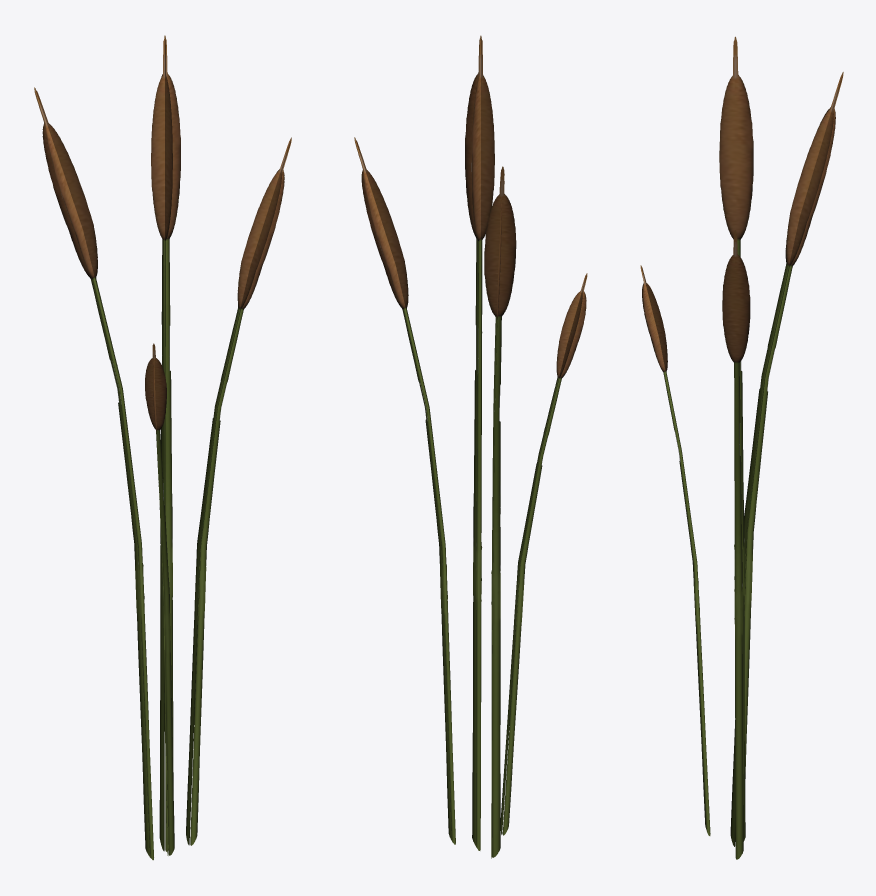
Rendered from FSF_Flower_005.FBX.
3 renders of one model, left to right at view 1: azimuth 30°, elevation 25°; view 2: azimuth 150°, elevation 25°; view 3: azimuth 270°, elevation 25°, orthographic.
Visible parts, largest first — view 1: FSF_Flower_005; view 2: FSF_Flower_005; view 3: FSF_Flower_005.
Part boxes in pixels (x1,y1,x2,y2): FSF_Flower_005: (34,35,291,860); FSF_Flower_005: (354,35,587,858); FSF_Flower_005: (640,36,843,859).
Bounding box in the file's own units: 18.53 × 63.97 × 15.91.
